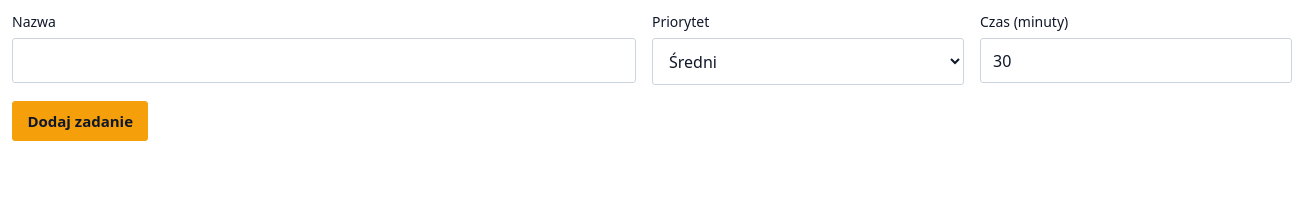
Test: TaskForm › rejects invalid duration -15
This screenshot has width=1304, height=199.
Type "Poprawne zadanie" into the field labelled "Nazwa" at x=324, y=61, box [12,38,636,83]
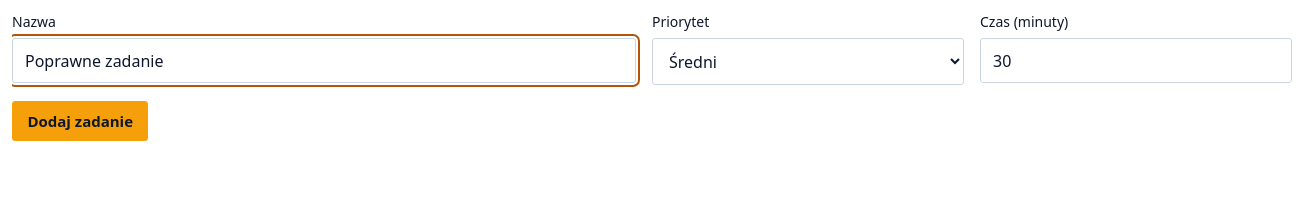
Replace the text in the number field labelled "Czas (minuty)" with "-15" at x=1136, y=61, box [980,38,1292,83]
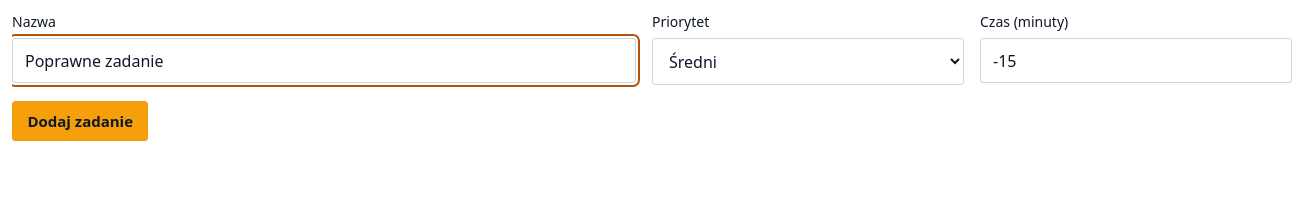
Click the button "Dodaj zadanie" at x=80, y=121, box [12,101,148,141]
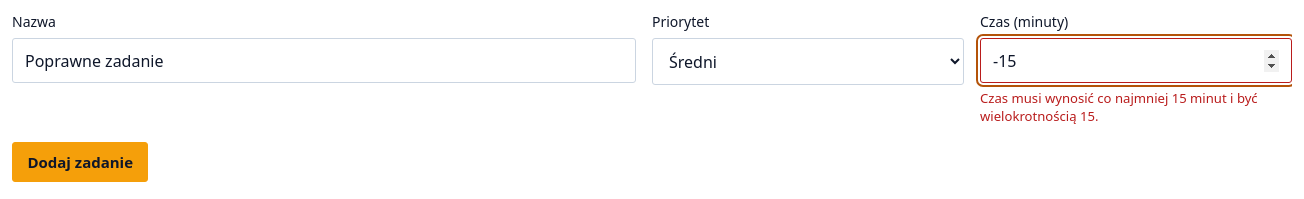
Check: the text "Czas musi wynosić co najmniej 15 minut i być wielokrotnością 15." is shown, box [980,90,1292,126]
